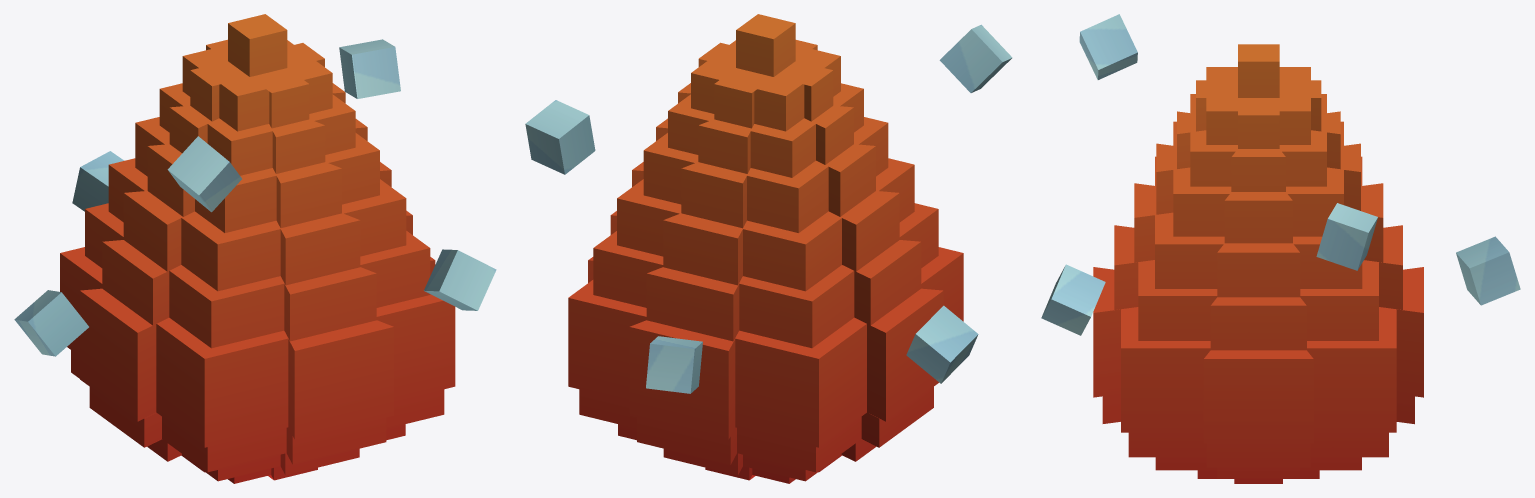
The model's file is earth egg.fbx.
3 views of the same model, side by side, from view 1: azimuth 30°, elevation 25°; view 2: azimuth 150°, elevation 25°; view 3: azimuth 270°, elevation 25° (orthographic). The views are drawn at different scales.
Parts seen in each view (by area): view 1: Cube_2; view 2: Cube_2; view 3: Cube_2.
Boxes of the visible parts, x1,y1,x2,y2 form: Cube_2: (14,14,496,483); Cube_2: (525,14,1012,483); Cube_2: (1041,14,1520,483).
Size of the model in its own units: 248 by 247 by 268.
